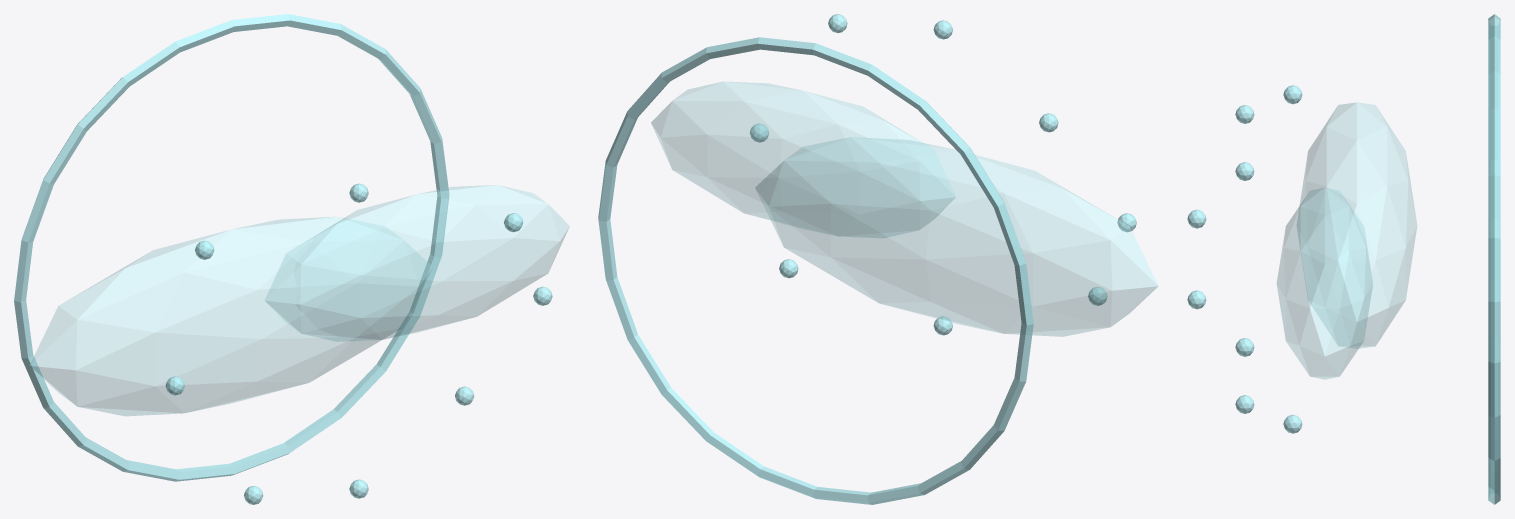
File: 04_atmosphere.glb
3 renders of one model, left to right at view 1: azimuth 30°, elevation 25°; view 2: azimuth 150°, elevation 25°; view 3: azimuth 270°, elevation 25°, orthographic. The views are drawn at different scales.
Visible parts, largest first — view 1: cloud_or_nebula_a, cloud_or_nebula_b, horizon_ring; view 2: cloud_or_nebula_a, cloud_or_nebula_b, horizon_ring; view 3: cloud_or_nebula_a, cloud_or_nebula_b, horizon_ring.
Part boxes in pixels (left/top/right/bottom): cloud_or_nebula_a: left=29, top=217, right=432, bottom=415; cloud_or_nebula_b: left=265, top=185, right=569, bottom=341; horizon_ring: left=14, top=14, right=449, bottom=481; cloud_or_nebula_a: left=755, top=137, right=1158, bottom=336; cloud_or_nebula_b: left=651, top=81, right=955, bottom=237; horizon_ring: left=598, top=37, right=1033, bottom=504; cloud_or_nebula_a: left=1297, top=102, right=1416, bottom=348; cloud_or_nebula_b: left=1277, top=188, right=1372, bottom=379; horizon_ring: left=1488, top=14, right=1500, bottom=504.
Size of the model in its own units: 1.85 by 1.54 by 0.979.
